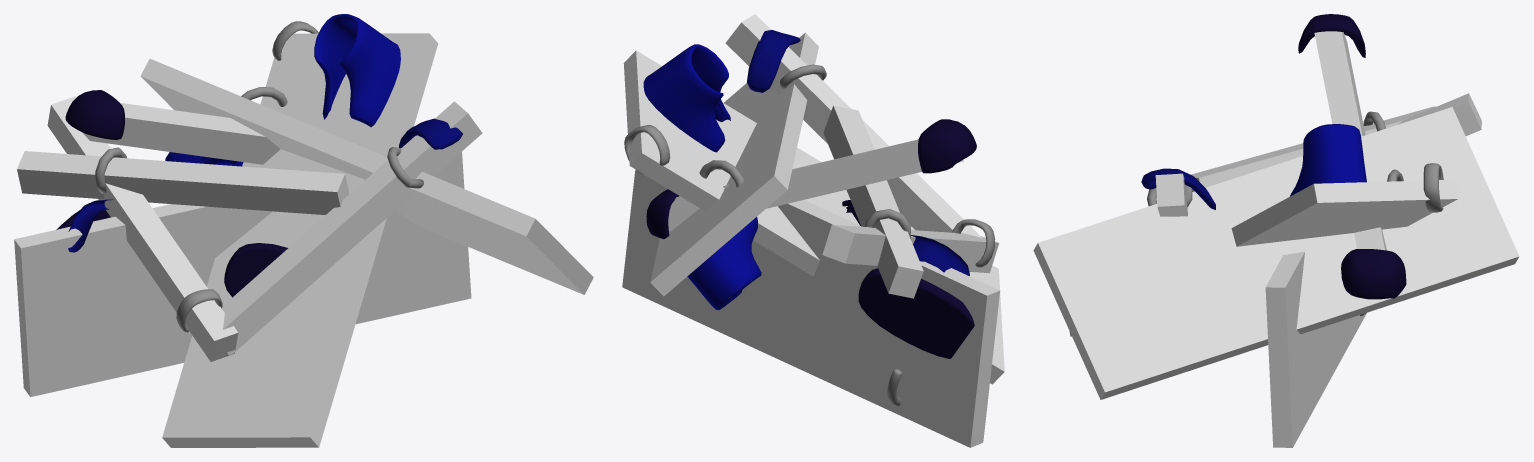
File: Shoeboard2ws.fbx
3 views of the same model, side by side, from view 1: azimuth 30°, elevation 25°; view 2: azimuth 150°, elevation 25°; view 3: azimuth 270°, elevation 25° (orthographic).
Parts seen in each view (by area): view 1: Boards, R-Shoe, R-Toes, R-Tongue, Lace, R-Inside; view 2: Boards, R-Toes, R-Shoe, R-Tongue, Lace, R-Inside; view 3: Boards, R-Toes, R-Shoe, R-Tongue, R-Inside, Lace.
Part boxes in pixels (<box>): Boards: <box>14,33,593,447</box>; R-Shoe: <box>165,14,400,166</box>; R-Toes: <box>56,90,287,297</box>; R-Tongue: <box>68,118,462,252</box>; Lace: <box>95,87,423,193</box>; R-Inside: <box>176,21,318,332</box>; Boards: <box>622,14,1004,447</box>; R-Toes: <box>646,119,976,358</box>; R-Shoe: <box>643,44,761,310</box>; R-Tongue: <box>747,30,969,275</box>; Lace: <box>699,64,911,406</box>; R-Inside: <box>624,125,995,267</box>; Boards: <box>1033,31,1519,447</box>; R-Toes: <box>1298,14,1406,299</box>; R-Shoe: <box>1290,124,1366,196</box>; R-Tongue: <box>1141,168,1215,209</box>; R-Inside: <box>1423,163,1443,212</box>; Lace: <box>1147,111,1403,316</box>.
Size of the model in its own units: 107 by 74.66 by 101.
